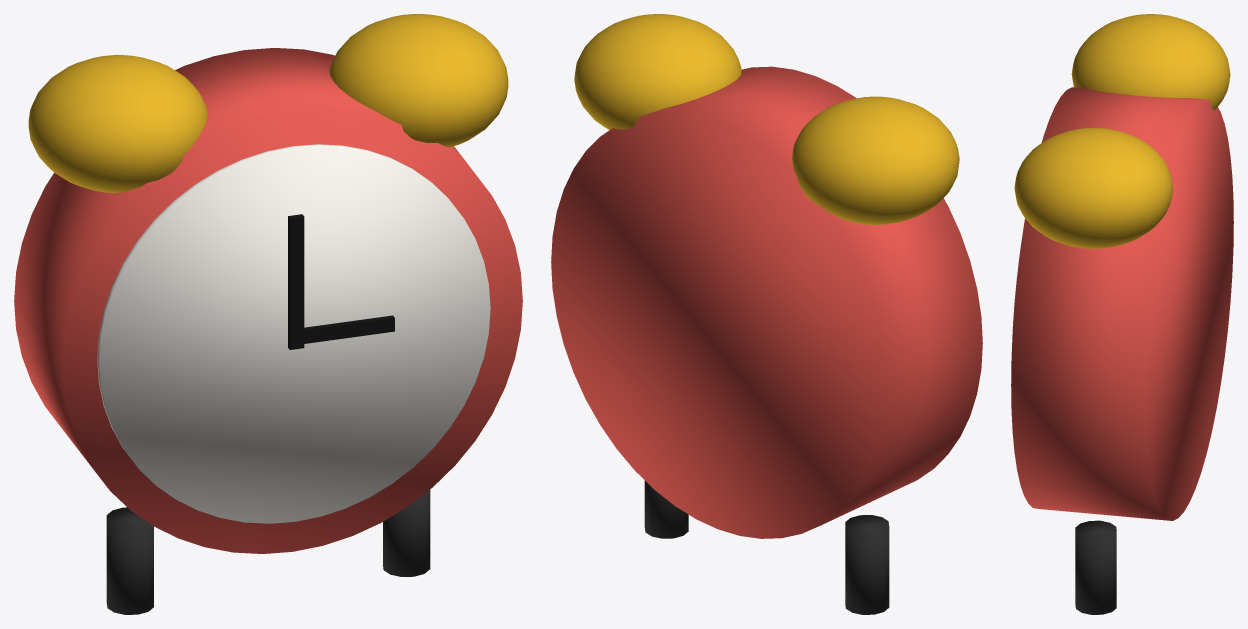
Rendered from decor_clock.glb.
The picture shows the model from 3 angles, left to right: view 1: azimuth 30°, elevation 25°; view 2: azimuth 150°, elevation 25°; view 3: azimuth 270°, elevation 25°; orthographic projection. The views are drawn at different scales.
Visible parts, largest first — view 1: decor_clock; view 2: decor_clock; view 3: decor_clock.
Part boxes in pixels (box(x1,y1,x2,y2)): decor_clock: box(14, 14, 522, 614); decor_clock: box(551, 14, 982, 614); decor_clock: box(1011, 14, 1233, 614).
Bounding box in the file's own units: 0.0837 × 0.0985 × 0.0421.
